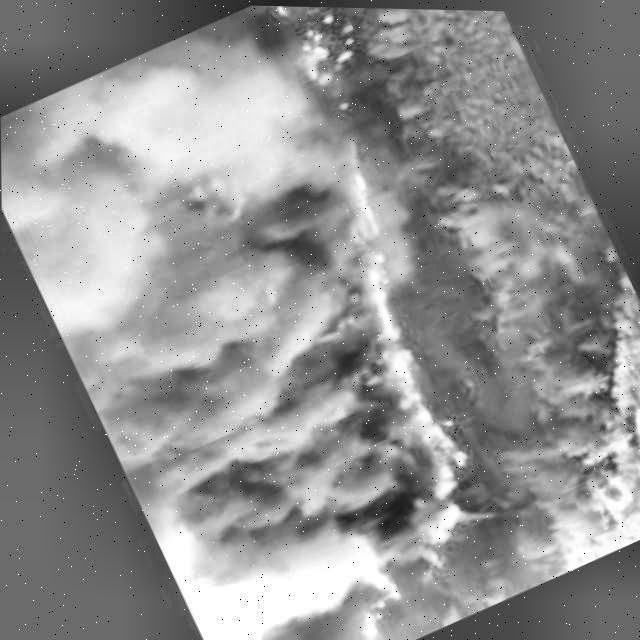Fire: (332, 244, 473, 455), (264, 5, 375, 106), (399, 455, 488, 556), (321, 162, 403, 248), (337, 561, 420, 640)
Smoke: (0, 3, 484, 640), (209, 592, 363, 640)
